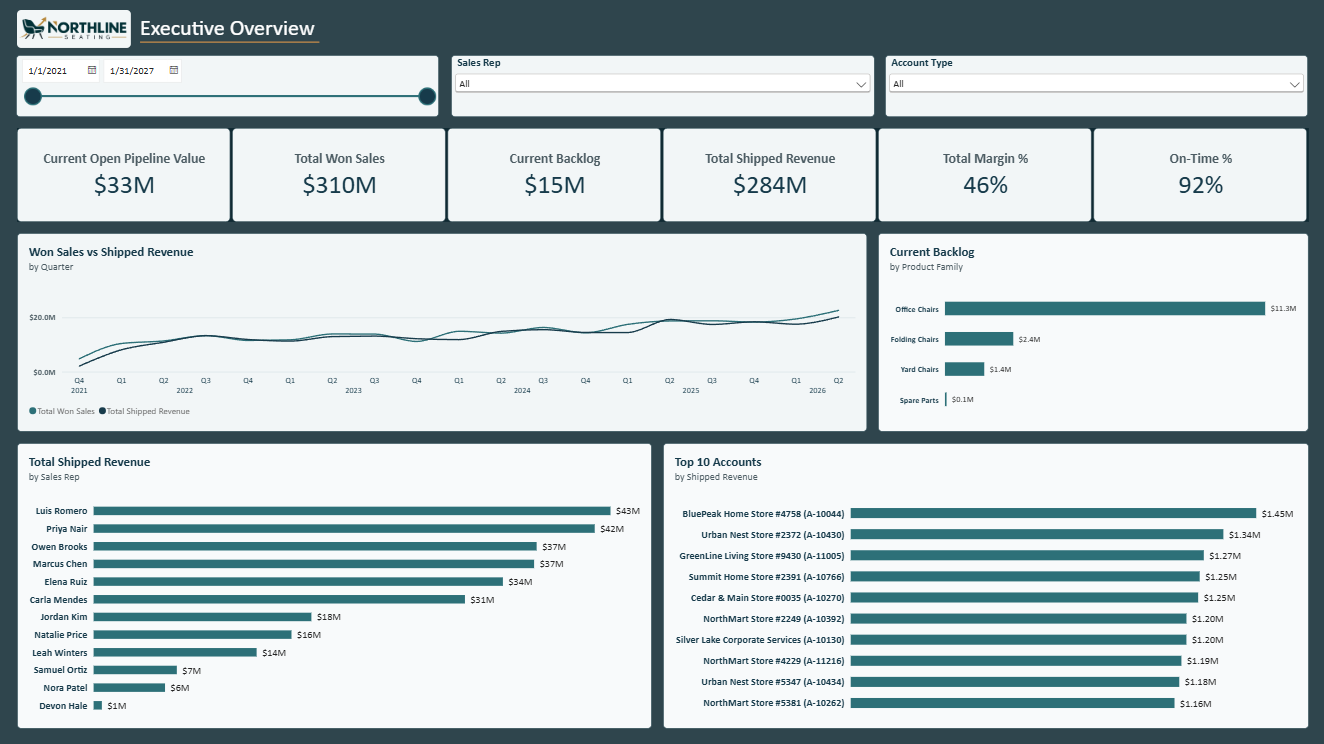

The page's visual inventory and layout, read from the dashboard file:
{"tool":"powerbi","page":{"name":"Executive Overview","canvas":[1920,1080],"ordinal":0},"visuals":[{"type":"shape","box":[202.3,55,260,12],"z":0,"group":"g1"},{"type":"cardVisual","fields":{"Data":["Measures_.Current Open Pipeline Value","Measures_.Total Won Sales","Measures_.Current Backlog","Measures_.Total Shipped Revenue","Measures_.Total Margin %","Measures_.On-Time %"]},"box":[24,186,1872,136],"z":0},{"type":"textbox","box":[202.2,20,720.9,39.9],"z":1000,"group":"g1"},{"type":"lineChart","title":"Won Sales vs Shipped Revenue","fields":{"Category":["Date.Year Hierarchy.Year","Date.Year Hierarchy.Quarter Label"],"Y":["Measures_.Total Won Sales","Measures_.Total Shipped Revenue"]},"box":[24,338,1232,288],"z":1000},{"type":"image","box":[24,14,165,55],"z":2000,"group":"g1"},{"type":"clusteredBarChart","fields":{"Category":["Product Reference.Product Family"],"Y":["Measures_.Current Backlog"]},"box":[1272,338,624,287.7],"z":2000},{"type":"clusteredBarChart","fields":{"Category":["Sales Rep.Sales Rep"],"Y":["Measures_.Total Shipped Revenue"]},"box":[24,642,920,414],"z":3000},{"type":"clusteredBarChart","title":"Top 10 Accounts","fields":{"Category":["Accounts.Account Display"],"Y":["Measures_.Total Shipped Revenue"]},"box":[960,642,936,414],"z":4000},{"type":"slicer","fields":{"Values":["Date.Date"]},"box":[23.4,79.5,613,90.4],"z":5000},{"type":"slicer","fields":{"Values":["Sales Rep.Sales Rep"]},"box":[653,80,614,90],"z":6000},{"type":"slicer","fields":{"Values":["Accounts.Account Type"]},"box":[1283,80,613,90],"z":7000},{"type":"group","id":"g1","title":"Group 1","box":[24,14,899.1,55],"z":8000}]}

Visuals, with their boxes in screenshot pixels (x1, y1, x2, y2), scaled from the page's 1920x1080 canvas onto the 1324x744 screenshot:
shape: box=[140, 38, 319, 46]
cardVisual - Measures_.Current Open Pipeline Value x Measures_.Total Won Sales: box=[17, 128, 1307, 222]
textbox: box=[139, 14, 637, 41]
"Won Sales vs Shipped Revenue" lineChart: box=[17, 233, 866, 431]
image: box=[17, 10, 130, 48]
clusteredBarChart - Product Reference.Product Family x Measures_.Current Backlog: box=[877, 233, 1307, 431]
clusteredBarChart - Sales Rep.Sales Rep x Measures_.Total Shipped Revenue: box=[17, 442, 651, 727]
"Top 10 Accounts" clusteredBarChart: box=[662, 442, 1307, 727]
slicer - Date.Date: box=[16, 55, 439, 117]
slicer - Sales Rep.Sales Rep: box=[450, 55, 874, 117]
slicer - Accounts.Account Type: box=[885, 55, 1307, 117]
"Group 1" group: box=[17, 10, 637, 48]
